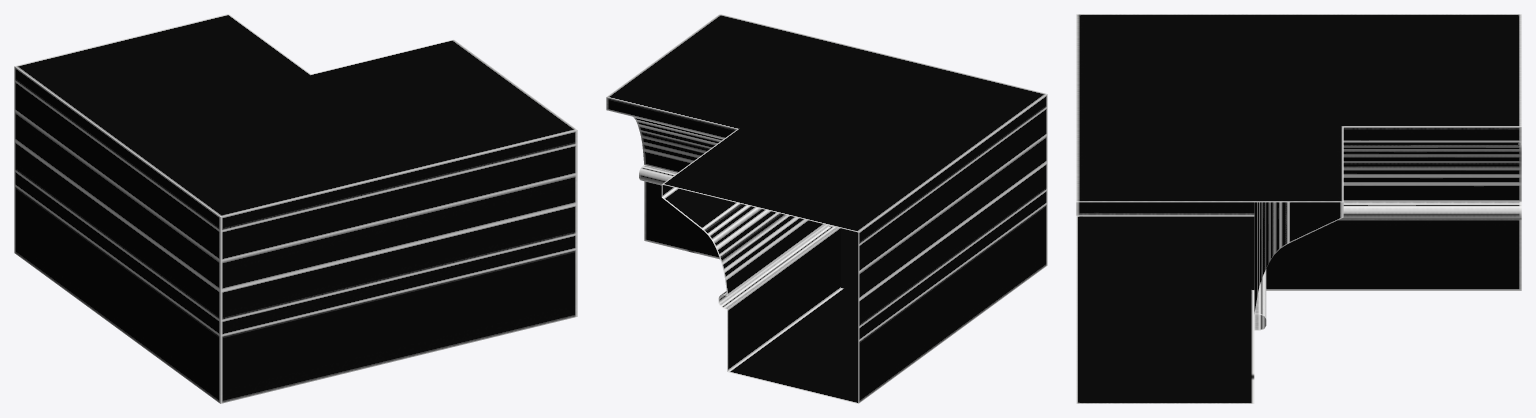
The model's file is RoofBorder_Curve02.fbx.
The picture shows the model from 3 angles, left to right: view 1: azimuth 30°, elevation 25°; view 2: azimuth 150°, elevation 25°; view 3: azimuth 270°, elevation 25°; orthographic projection. The views are drawn at different scales.
Parts seen in each view (by area): view 1: Roof01_2; view 2: Roof01_2; view 3: Roof01_2.
Part boxes in pixels (left/top/right/bottom): Roof01_2: left=14, top=14, right=577, bottom=403; Roof01_2: left=606, top=14, right=1047, bottom=403; Roof01_2: left=1076, top=14, right=1521, bottom=403.
Size of the model in its own units: 500 by 250 by 500.
1 material, 1 textured.
